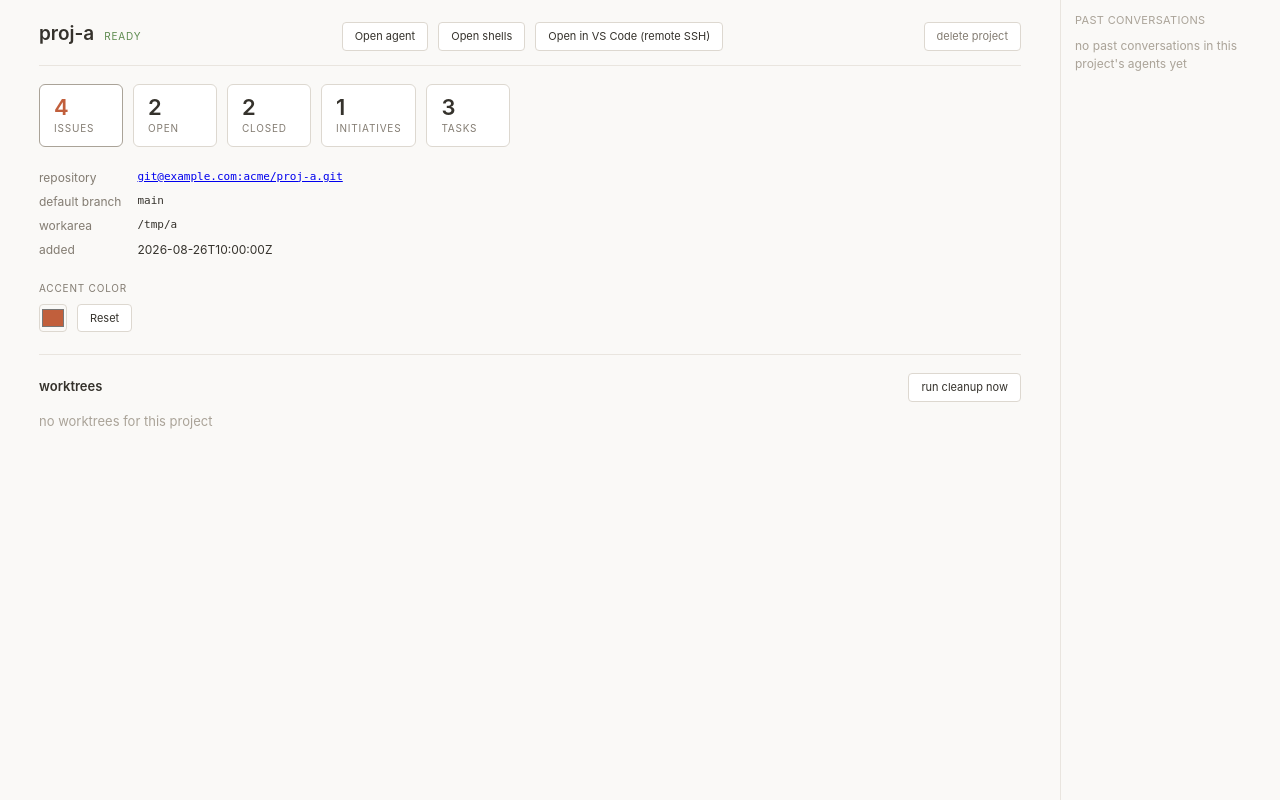
Test case: ProjectSummaryComponent › open-the-ide button (#831) › for a remote-SSH entry, mints the session, fetches the link facts and opens the link here, never open-ide (#949)
Click the button with class "open-ide-button": click(629, 36) [535, 22, 723, 50]
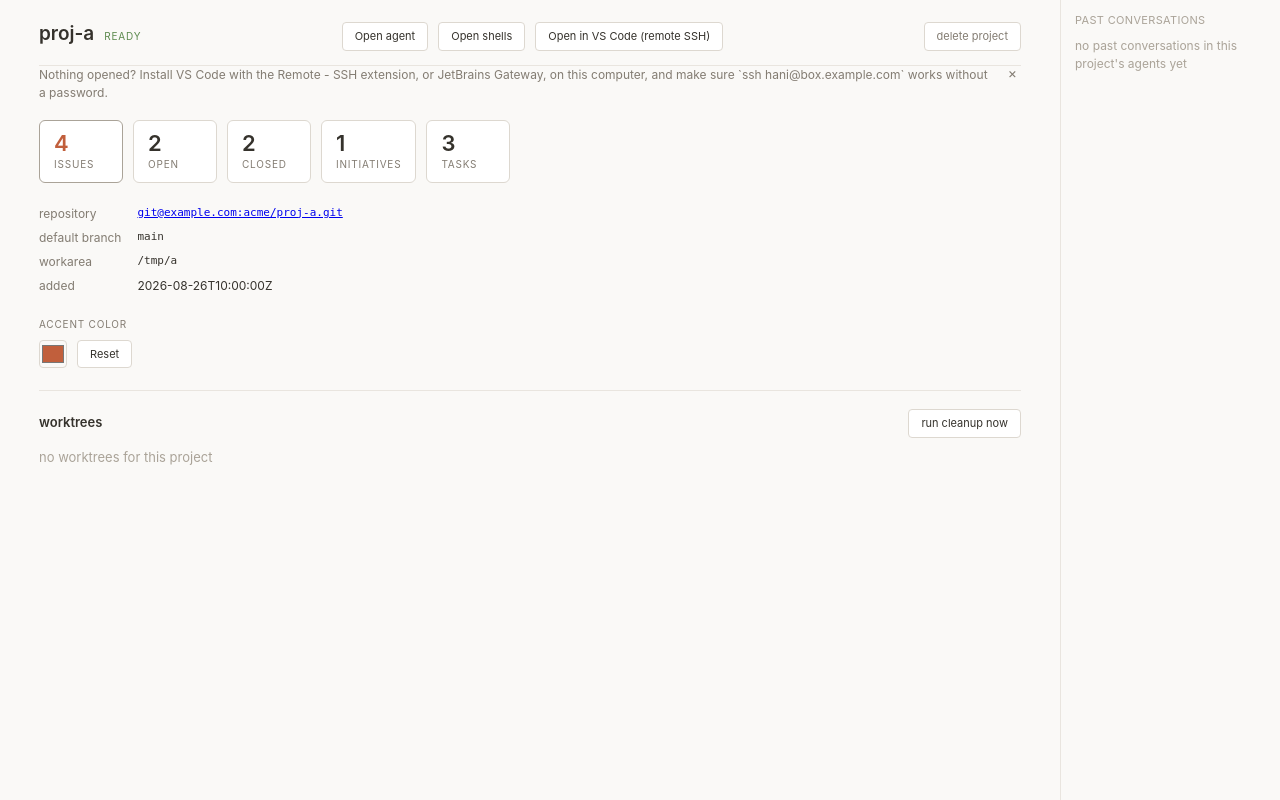
Expected: the message with class "ide-hint" shows "ssh hani@box.example.com", [39, 66, 988, 100]
Click the button with class "ide-hint-dismiss": click(1012, 72) [1004, 66, 1021, 80]
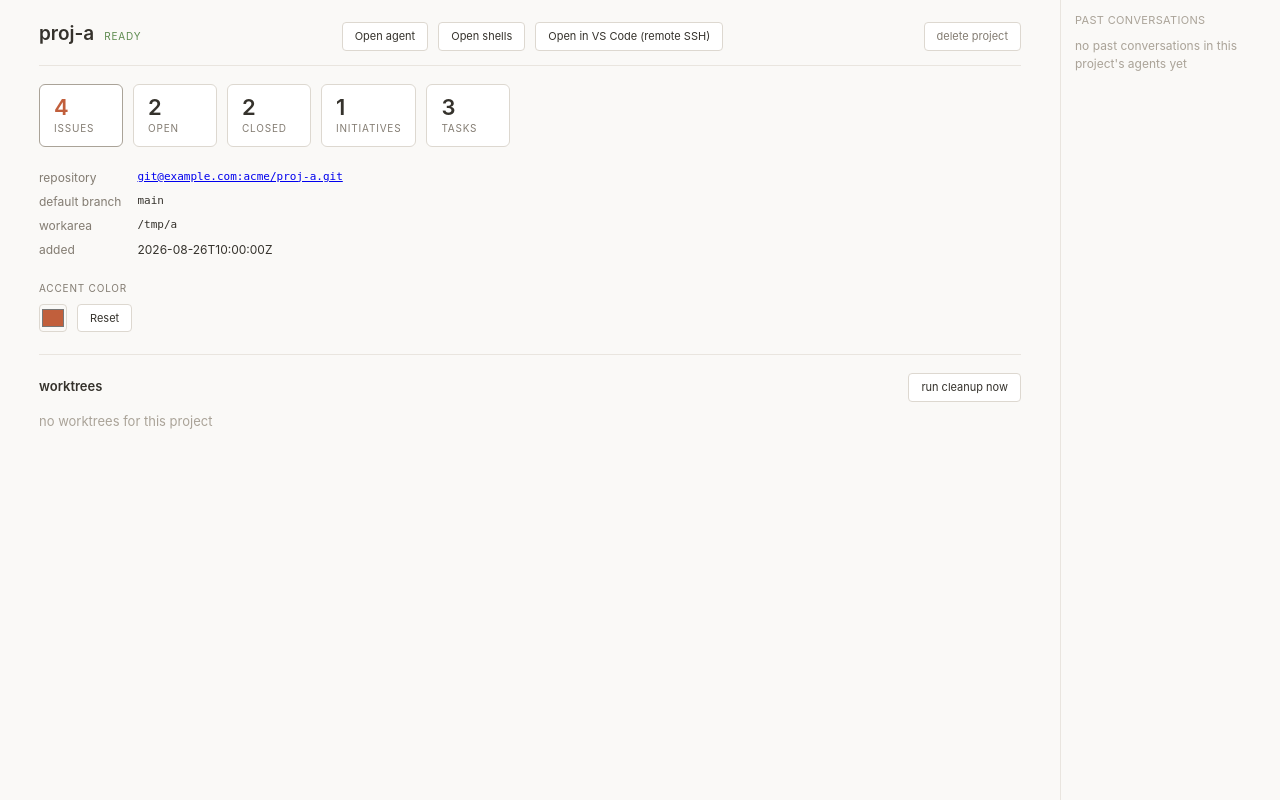
Expected: the message with class "ide-hint" is gone
